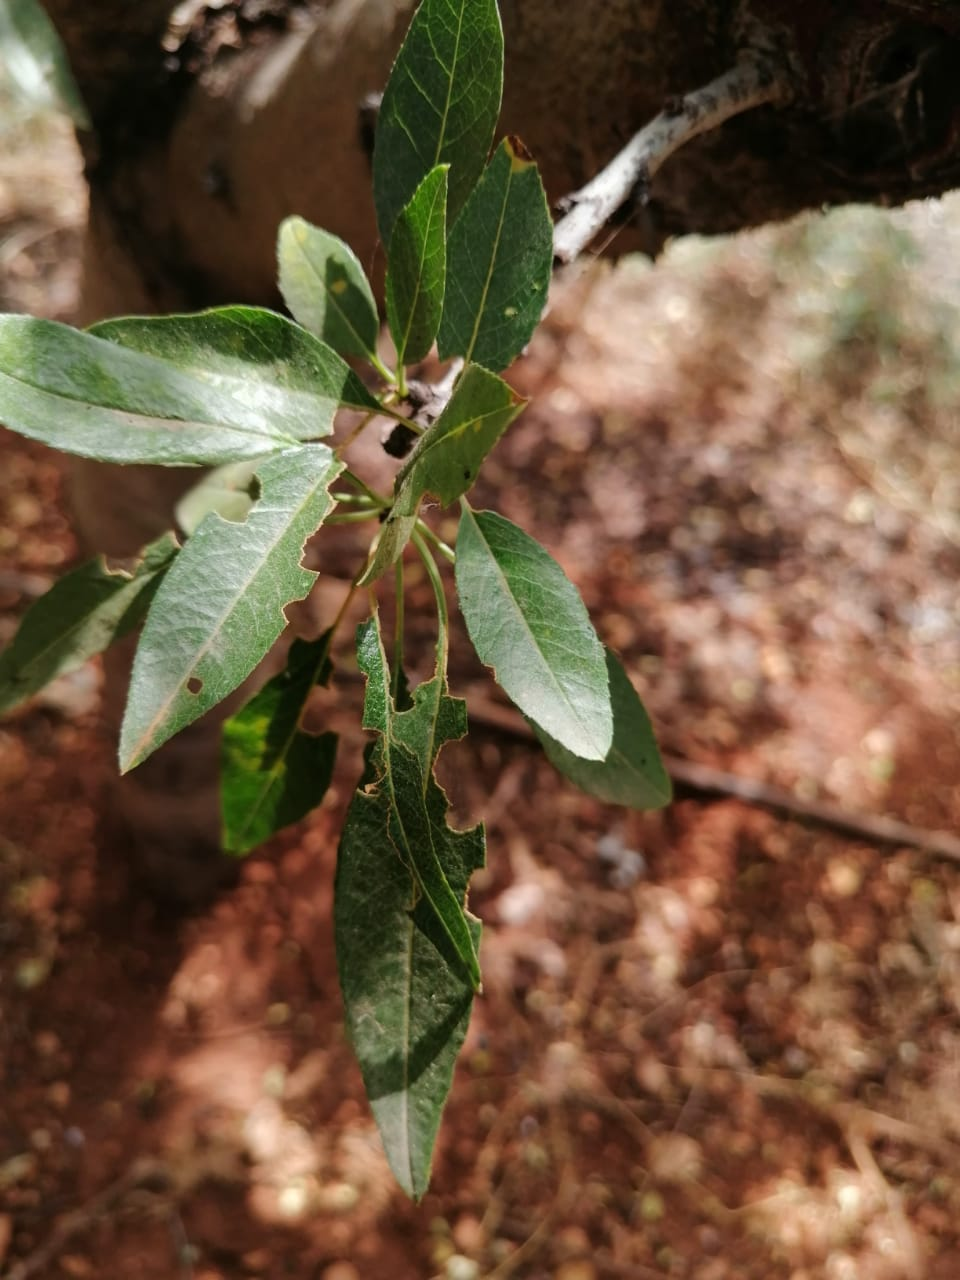othyorinques: (332, 664, 486, 1208), (114, 437, 349, 781)
